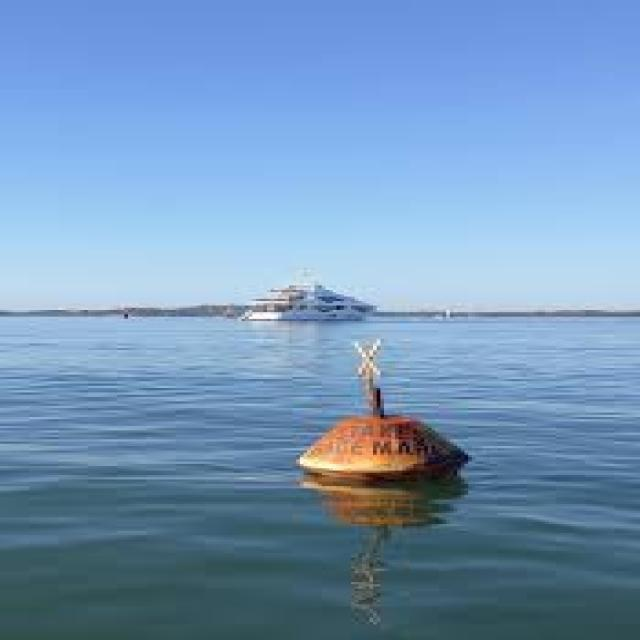2.5 sepcial mark: (285, 320, 465, 505)
